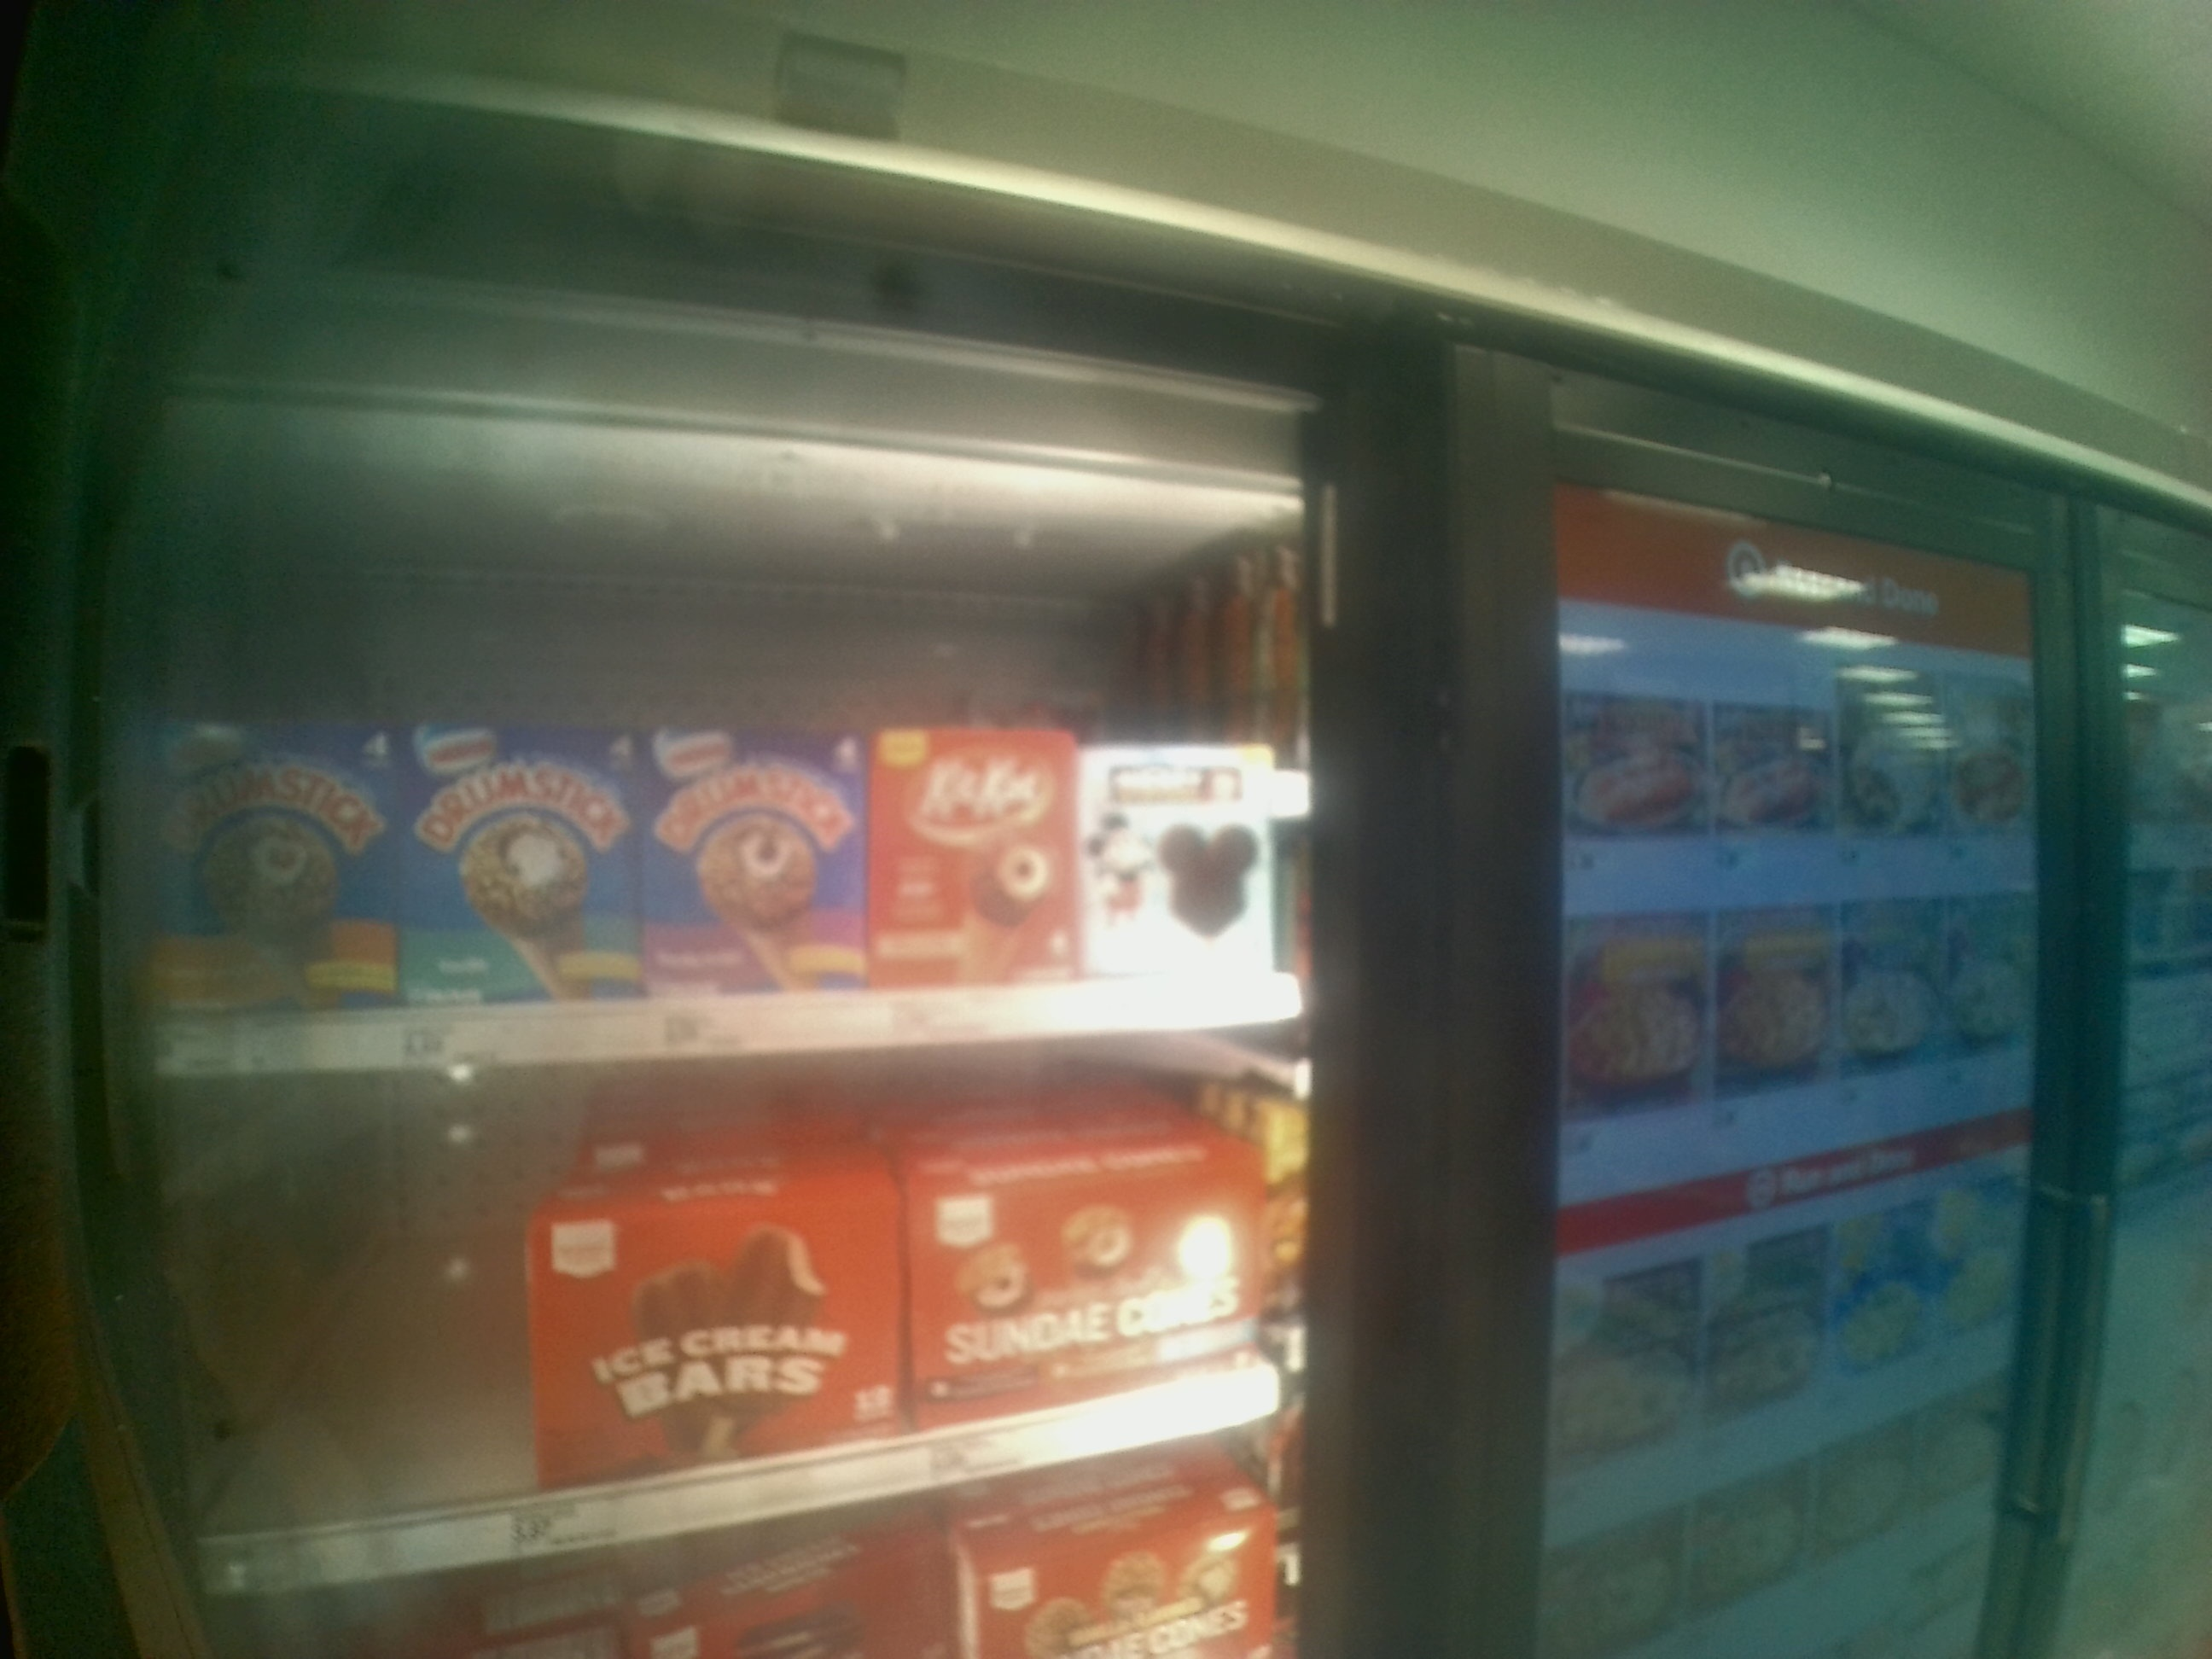shelf: (92, 1023, 1331, 1607), (105, 612, 1353, 1073)
